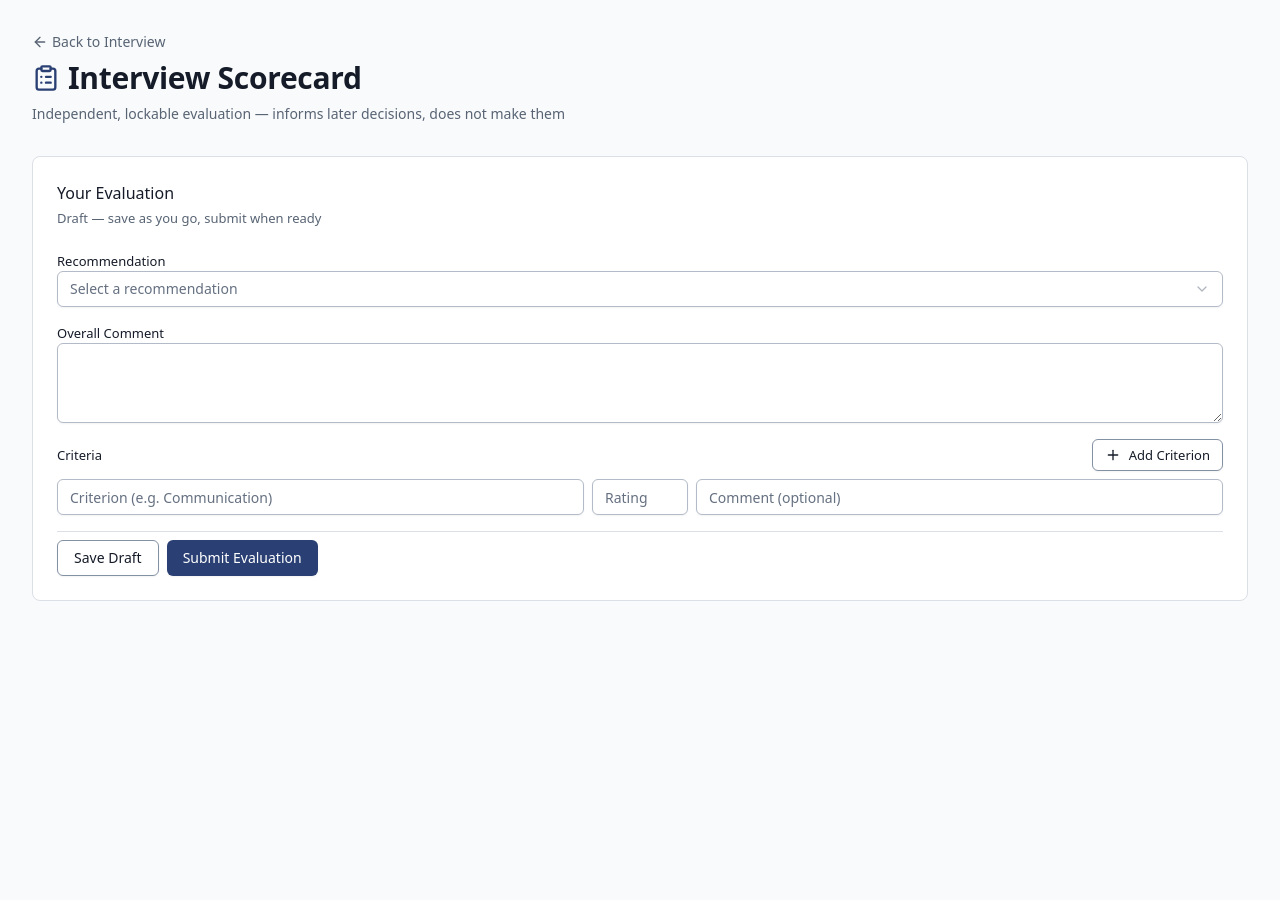
Test: Interview Scorecard page › shows a submit confirmation dialog warning about immutability before submitting
Click the button with test id "button-open-submit-confirm".
click(242, 558)  # box [167, 540, 318, 576]
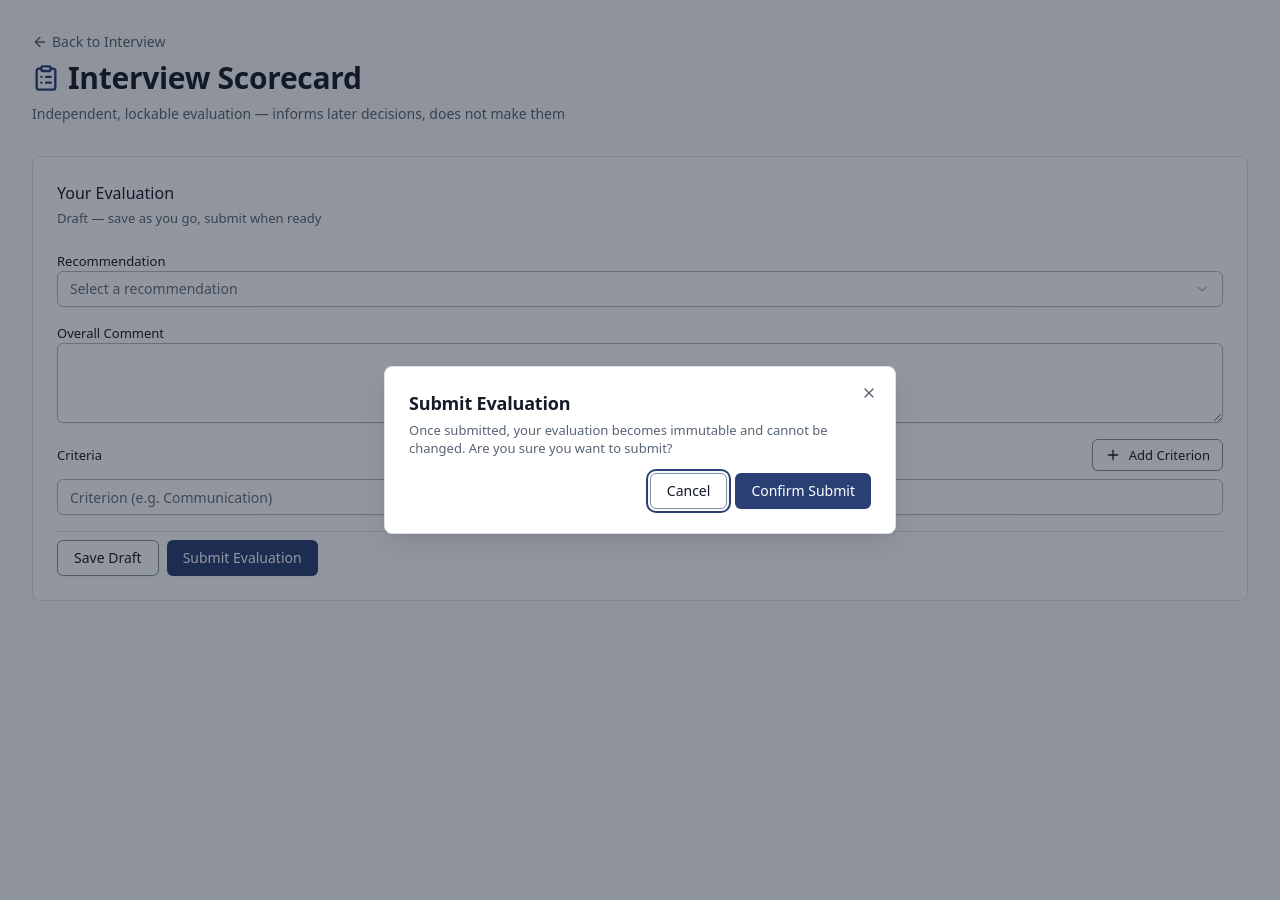
Now the text "immutable and cannot be changed" is shown, box [409, 421, 828, 457]
